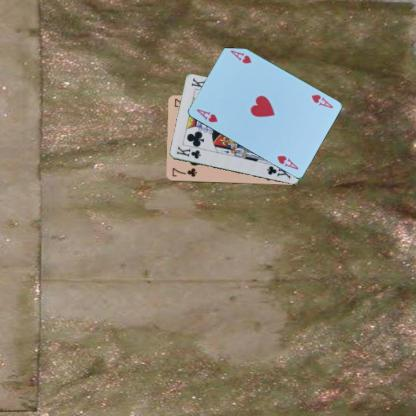7c: (169, 165, 198, 178)
Ah: (308, 92, 334, 110), (194, 106, 218, 124)
Kc: (174, 144, 202, 160)
